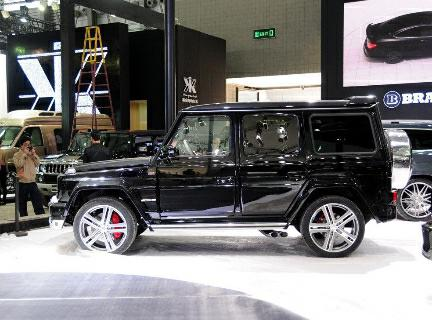巴博斯-G级: (47, 100, 402, 258)
